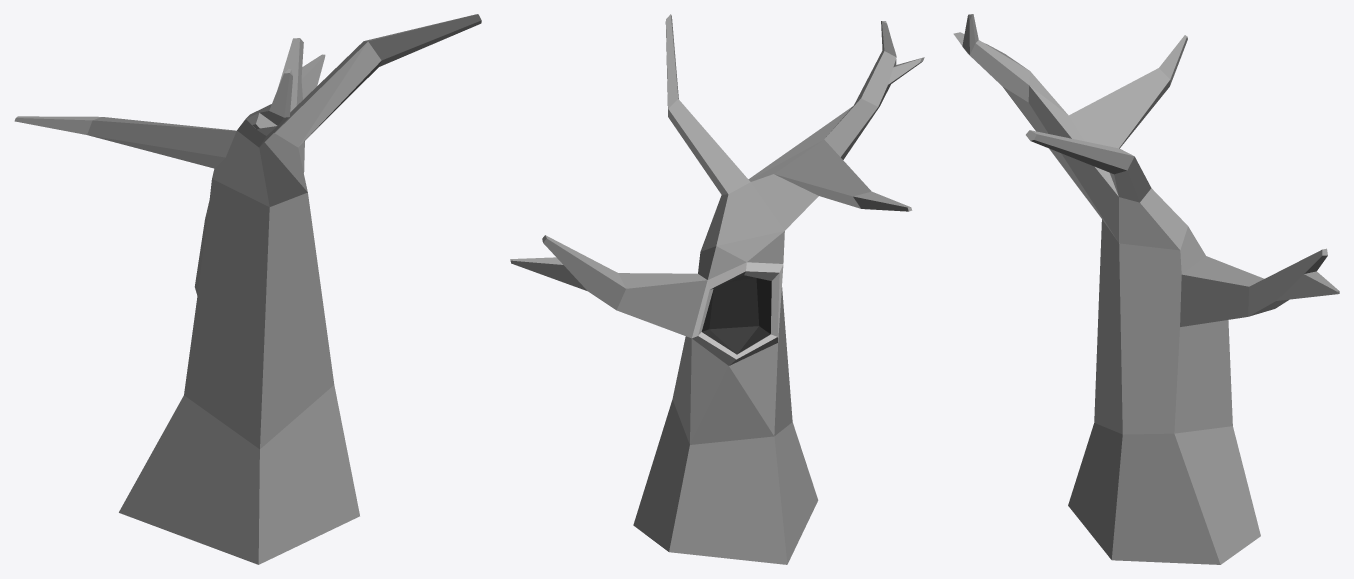
Rendered from TreeAutumn9_Alt4.fbx.
3 views of the same model, side by side, from view 1: azimuth 30°, elevation 25°; view 2: azimuth 150°, elevation 25°; view 3: azimuth 270°, elevation 25° (orthographic). The views are drawn at different scales.
Visible parts, largest first — view 1: TreeAutumn9_Alt4; view 2: TreeAutumn9_Alt4; view 3: TreeAutumn9_Alt4.
Part boxes in pixels (x1,y1,x2,y2): TreeAutumn9_Alt4: (14, 14, 481, 564); TreeAutumn9_Alt4: (510, 14, 924, 564); TreeAutumn9_Alt4: (953, 14, 1339, 564).
Bounding box in the file's own units: 1.2 × 1.57 × 1.14.
